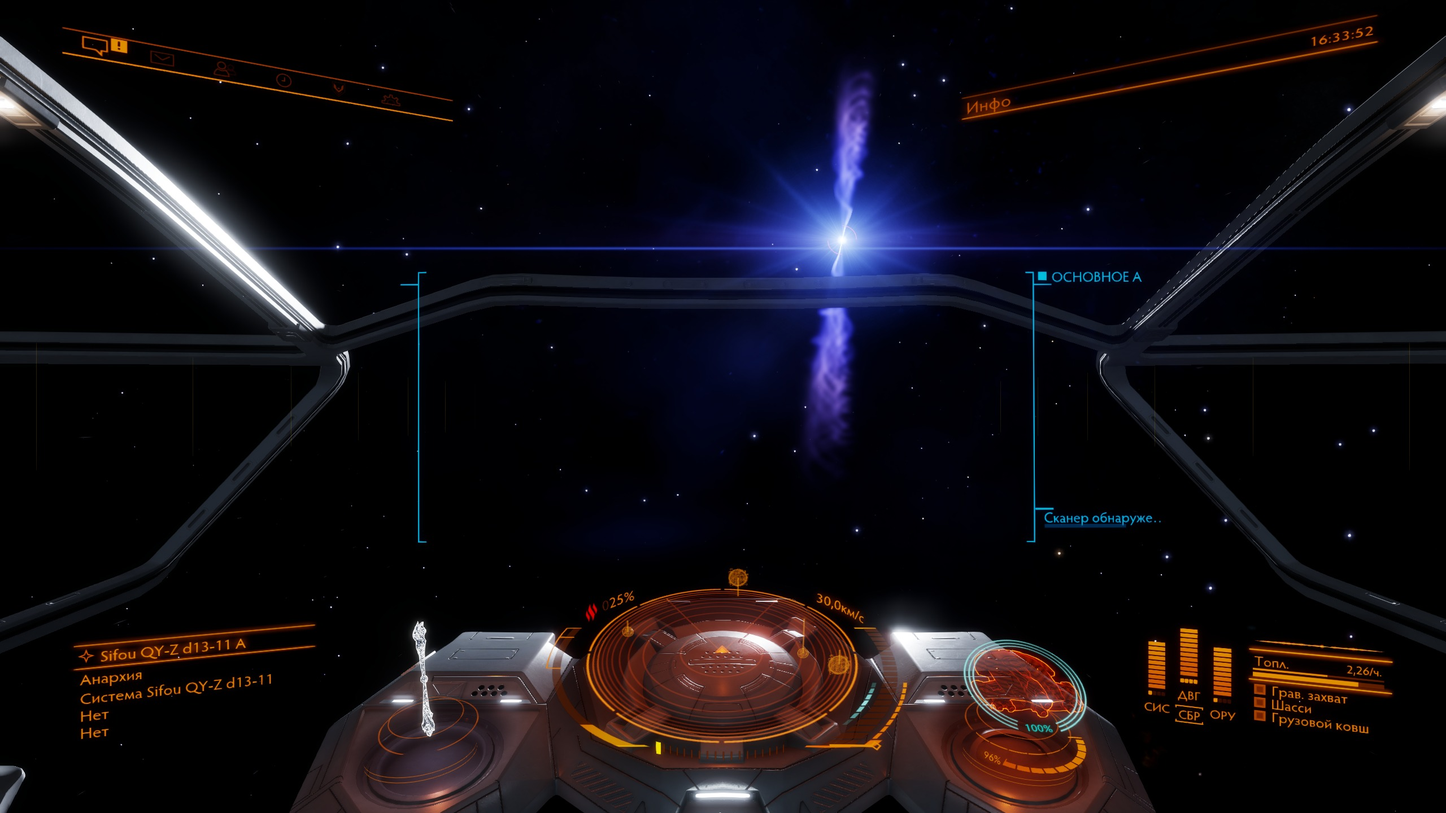jetcone: (828, 69, 877, 211)
